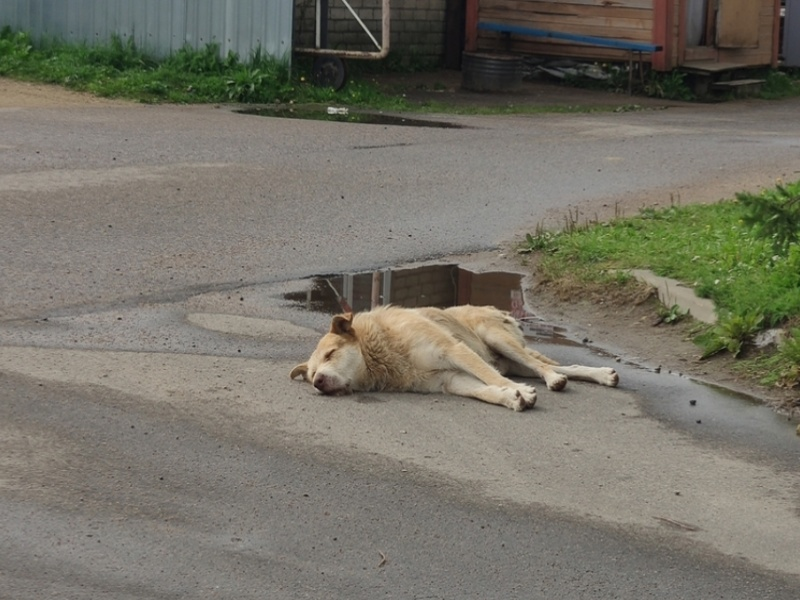dog: (288, 299, 625, 416)
